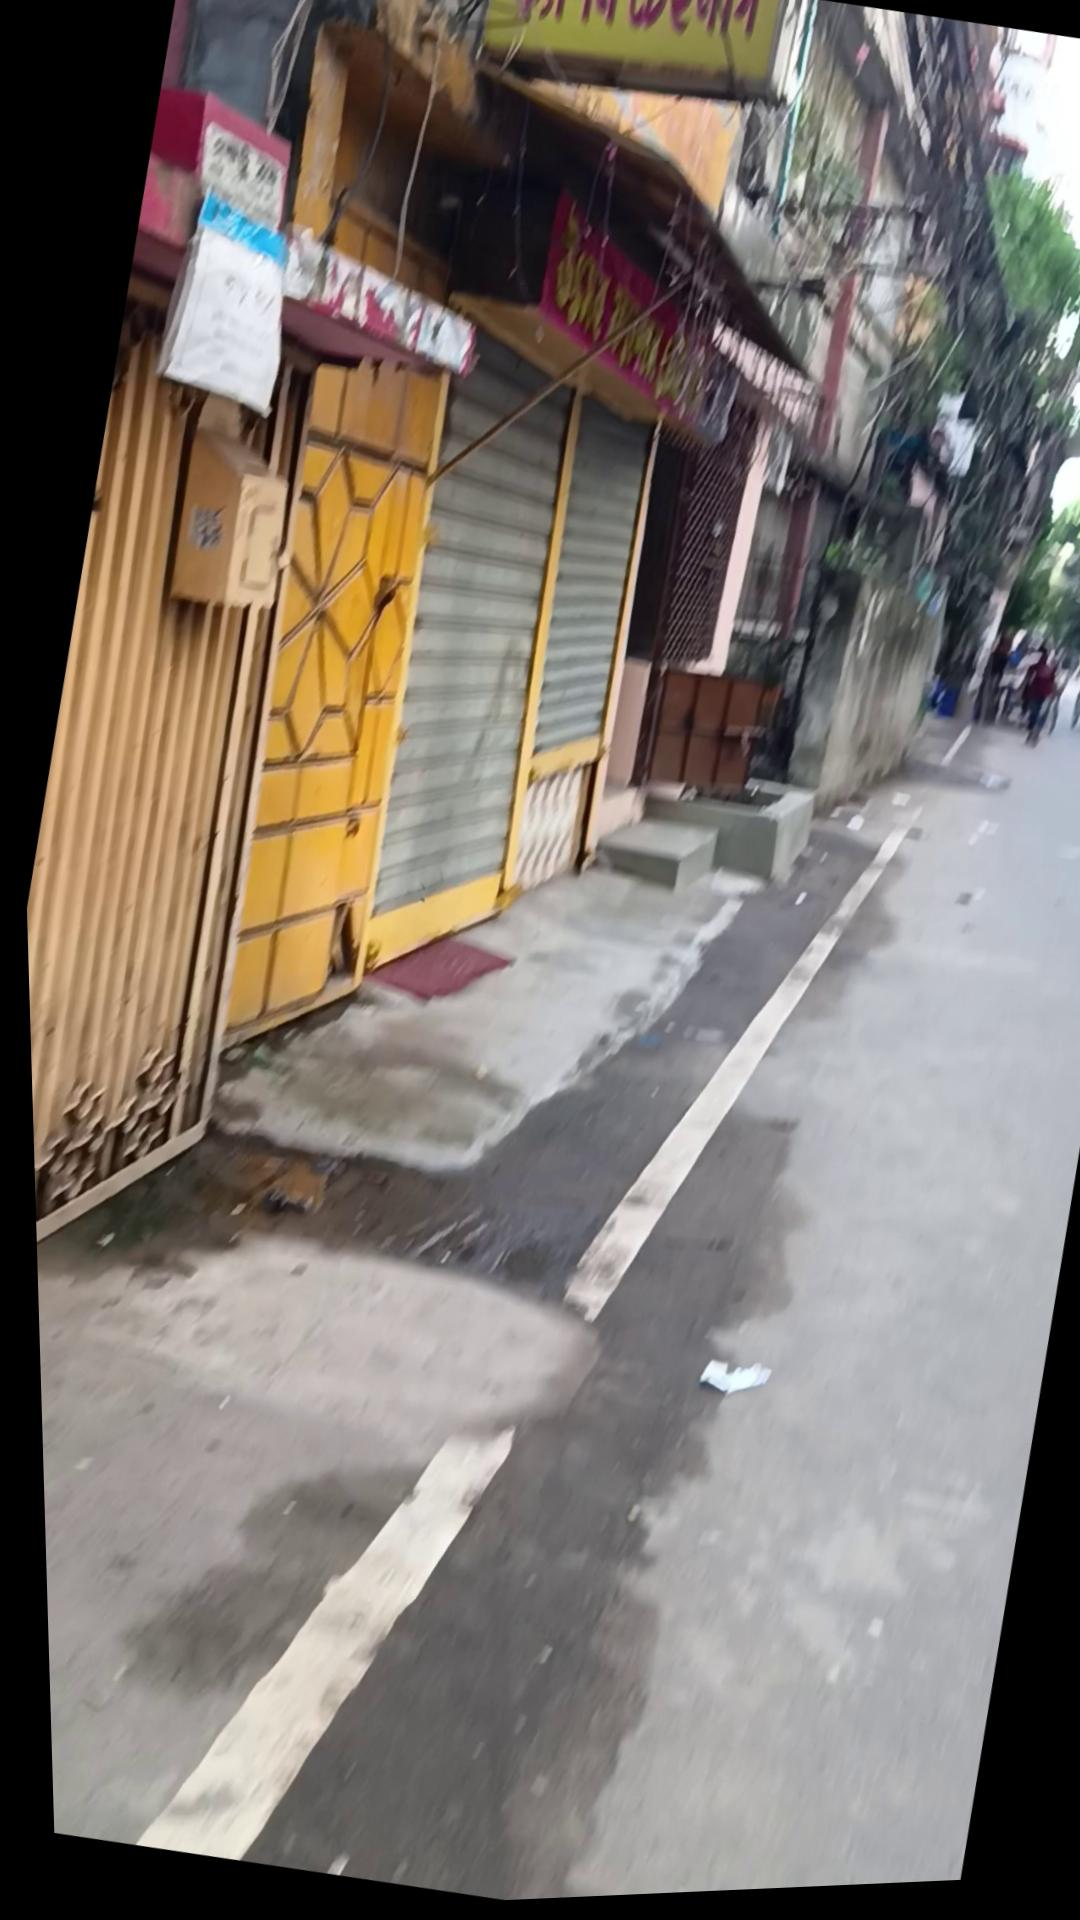Broken-road: (204, 774, 761, 1241), (559, 735, 866, 948)
Fence: (1059, 632, 1080, 757)
Light-pole: (919, 128, 1080, 717)
Obstacle: (7, 284, 357, 1309), (178, 343, 476, 1076)
